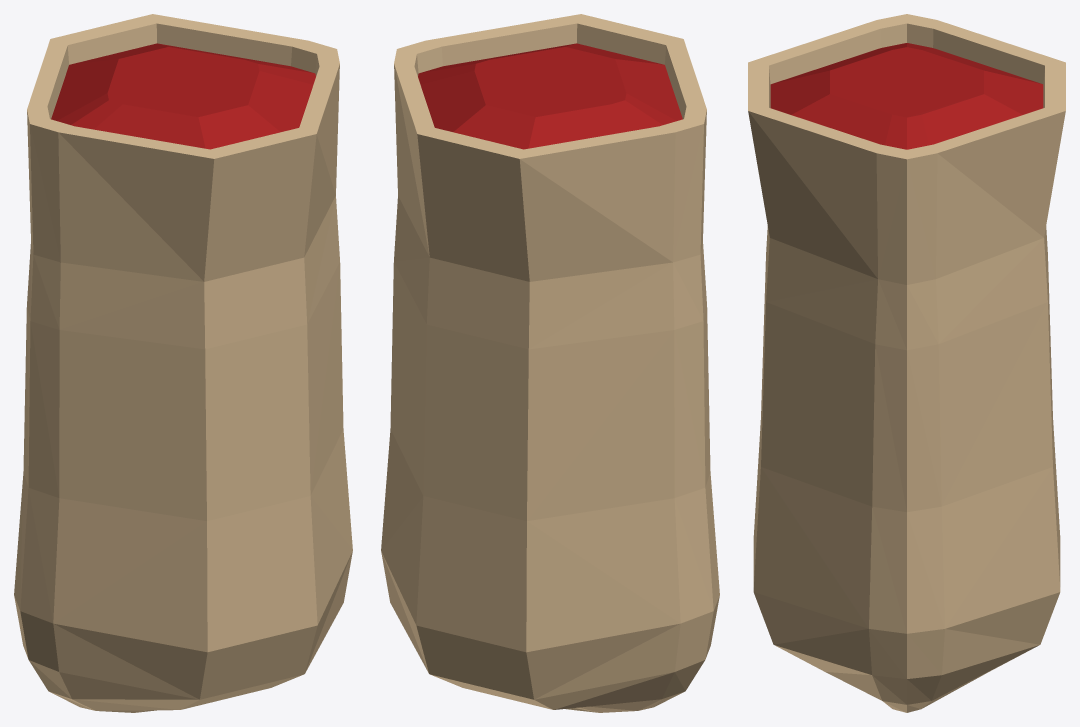
The model's file is SM_sack_01.fbx.
3 renders of one model, left to right at view 1: azimuth 30°, elevation 25°; view 2: azimuth 150°, elevation 25°; view 3: azimuth 270°, elevation 25°, orthographic. The views are drawn at different scales.
Visible parts, largest first — view 1: Box059; view 2: Box059; view 3: Box059.
Part boxes in pixels (x1,y1,x2,y2): Box059: [14, 14, 352, 712]; Box059: [381, 14, 719, 712]; Box059: [748, 14, 1065, 712].
Size of the model in its own units: 24.62 by 44.85 by 21.42.
